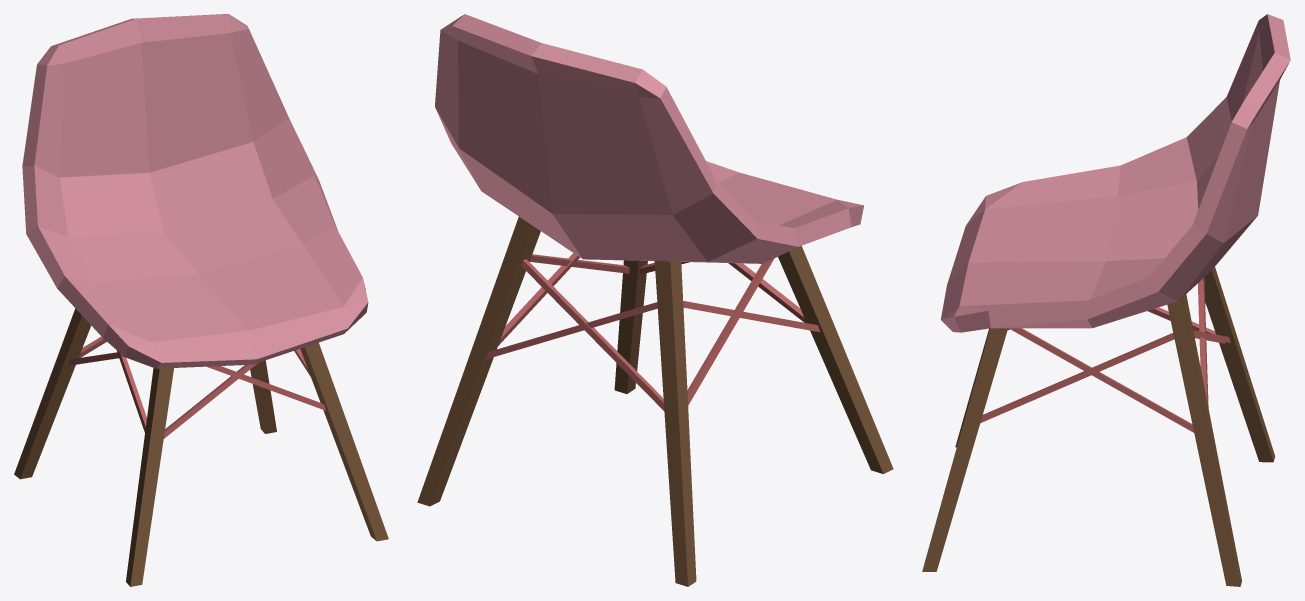
Rendered from Chair_5_231109.glb.
3 views of the same model, side by side, from view 1: azimuth 30°, elevation 25°; view 2: azimuth 150°, elevation 25°; view 3: azimuth 270°, elevation 25° (orthographic). The views are drawn at different scales.
Parts seen in each view (by area): view 1: Chair_5; view 2: Chair_5; view 3: Chair_5.
Part boxes in pixels (x1,y1,x2,y2): Chair_5: (14, 14, 388, 586); Chair_5: (417, 14, 893, 586); Chair_5: (922, 14, 1290, 586).
Bounding box in the file's own units: 0.9459 × 1.38 × 0.9782.
1 material, 1 textured.
